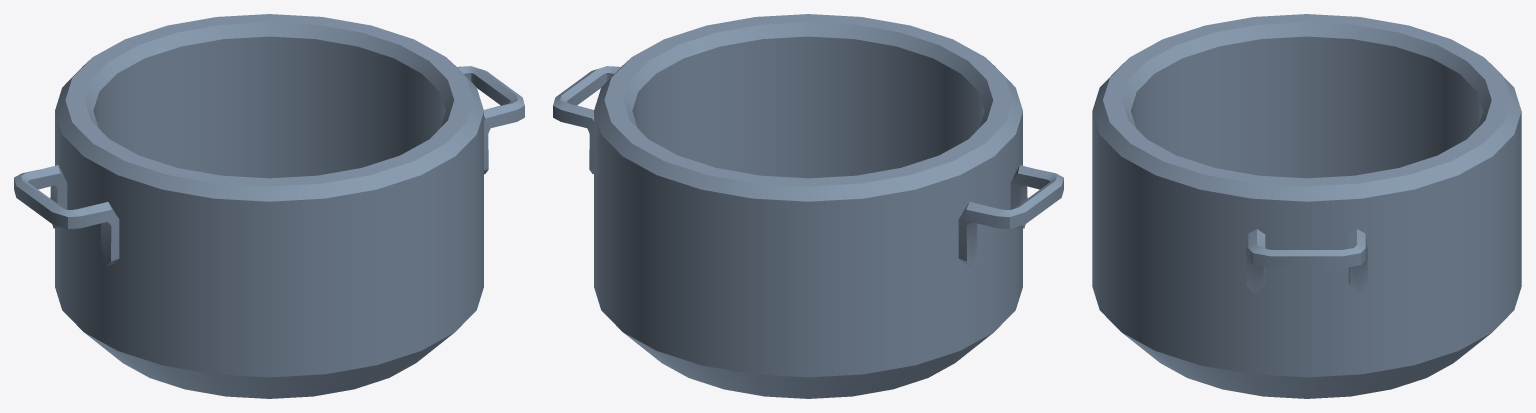
Rendered from Pot 1 Empty.glb.
3 views of the same model, side by side, from view 1: azimuth 30°, elevation 25°; view 2: azimuth 150°, elevation 25°; view 3: azimuth 270°, elevation 25° (orthographic).
Parts seen in each view (by area): view 1: Environment_Pot_1_Empty; view 2: Environment_Pot_1_Empty; view 3: Environment_Pot_1_Empty.
Boxes of the visible parts, box(x1,y1,x2,y2) form: Environment_Pot_1_Empty: box(14, 14, 524, 398); Environment_Pot_1_Empty: box(553, 14, 1063, 398); Environment_Pot_1_Empty: box(1092, 14, 1521, 398).
Size of the model in its own units: 1.58 by 0.731 by 1.25.
Materials: 1 (1 with a texture image).
